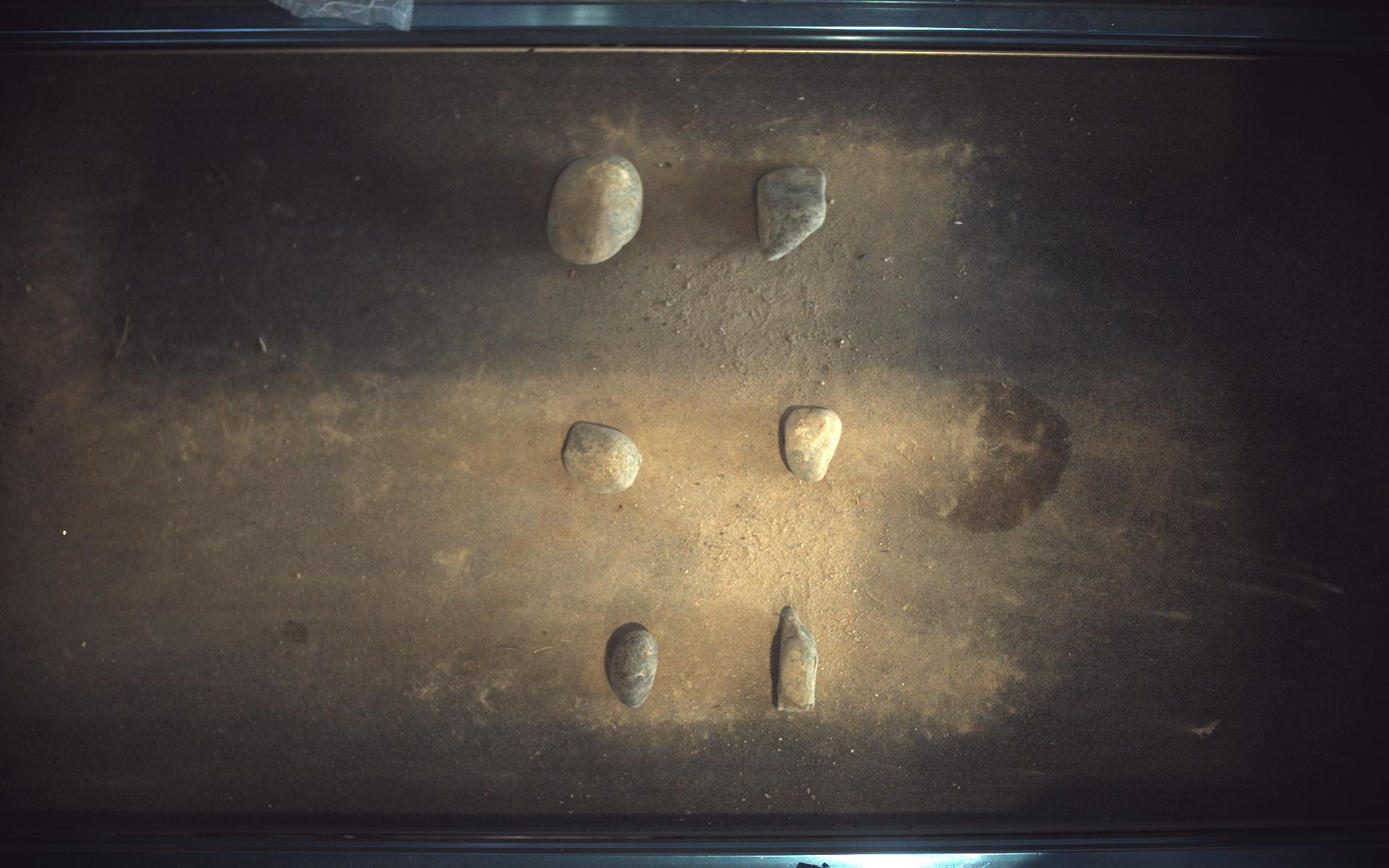stone: (548, 153, 644, 264), (757, 167, 828, 260), (562, 421, 642, 494), (777, 606, 820, 713), (605, 623, 658, 709), (786, 407, 844, 483)
